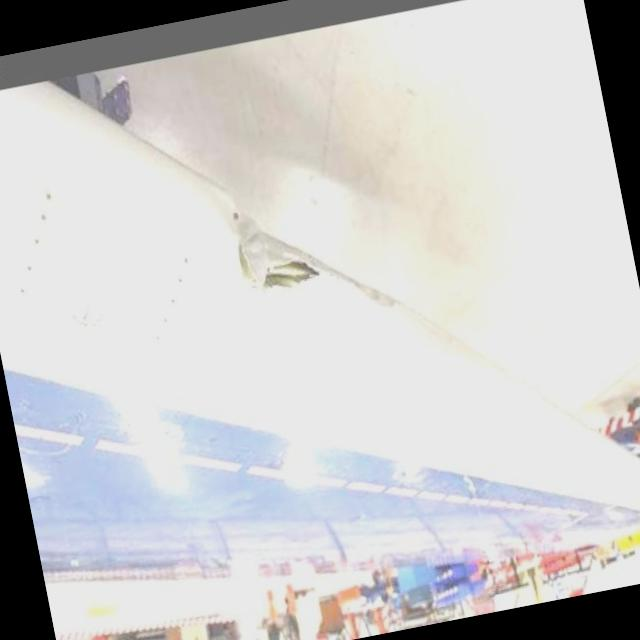crack: (226, 187, 328, 298)
dent: (396, 285, 484, 373)
